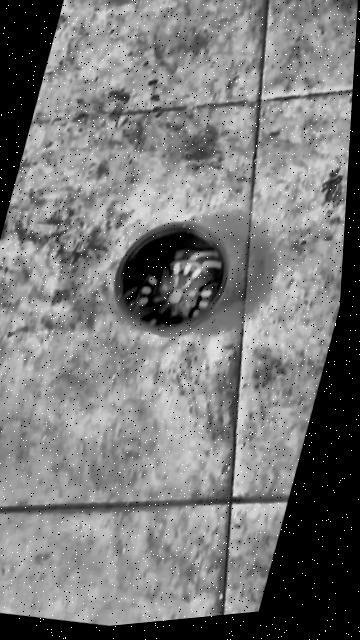pot: (100, 207, 240, 349)
